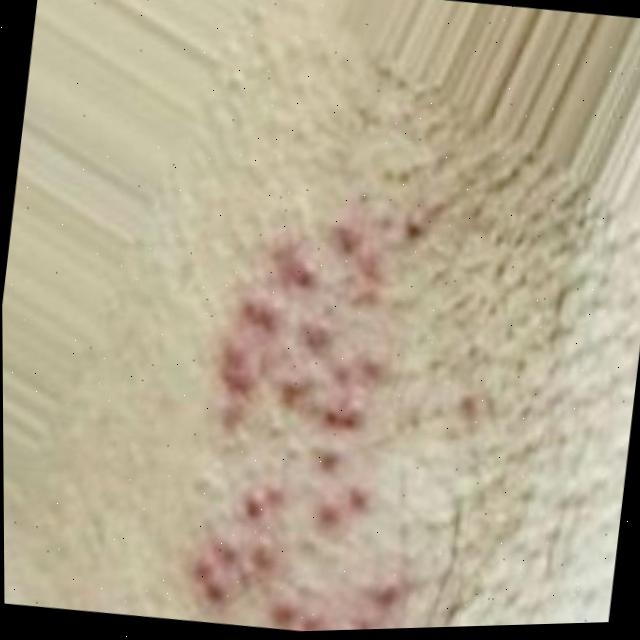Shingles: (176, 201, 459, 635)
